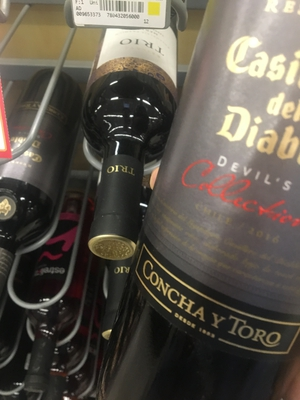casillero del diablo devils collection rojo: (147, 4, 300, 359)
